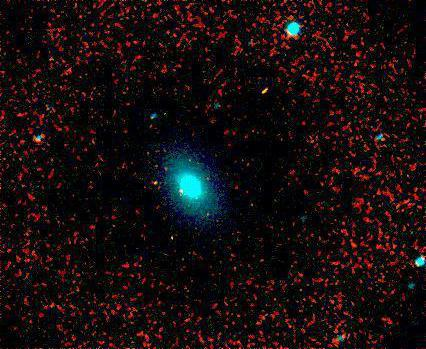star: (141, 167, 171, 197)
